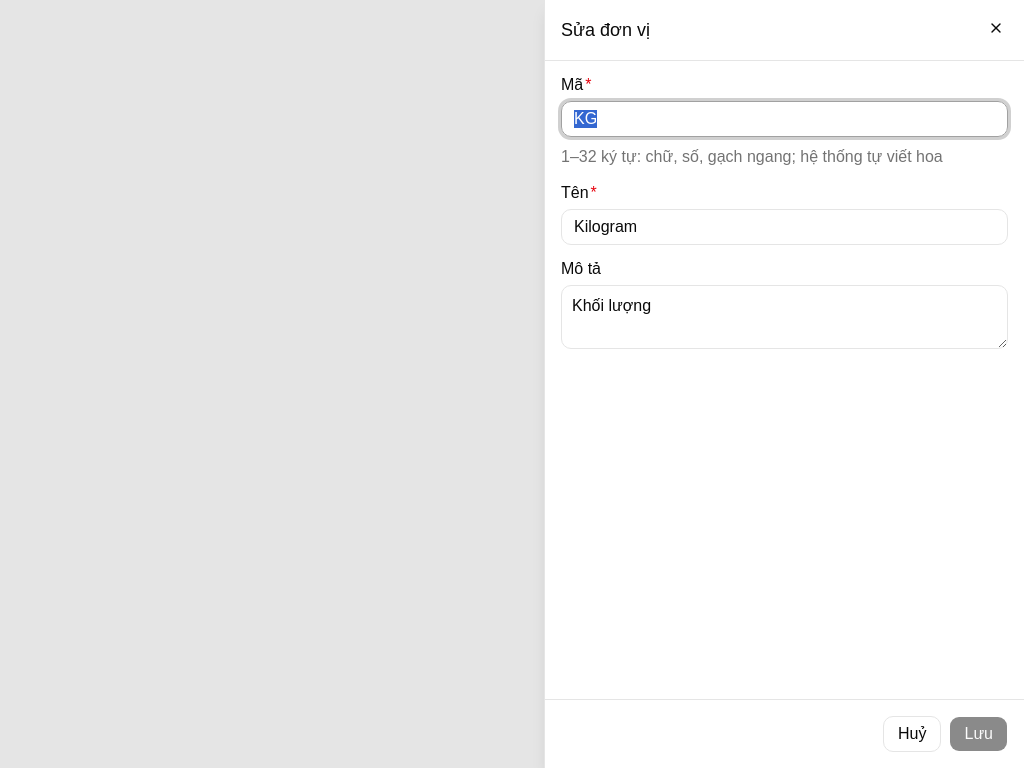
Test case: UnitFormSheet › sửa: PATCH trả mã trùng (100906) → hộp đóng, lỗi tại ô Mã, sheet vẫn mở
The image size is (1024, 768).
Type "X" into the field labelled "Mã *" at [784, 119], box [561,101,1008,137]
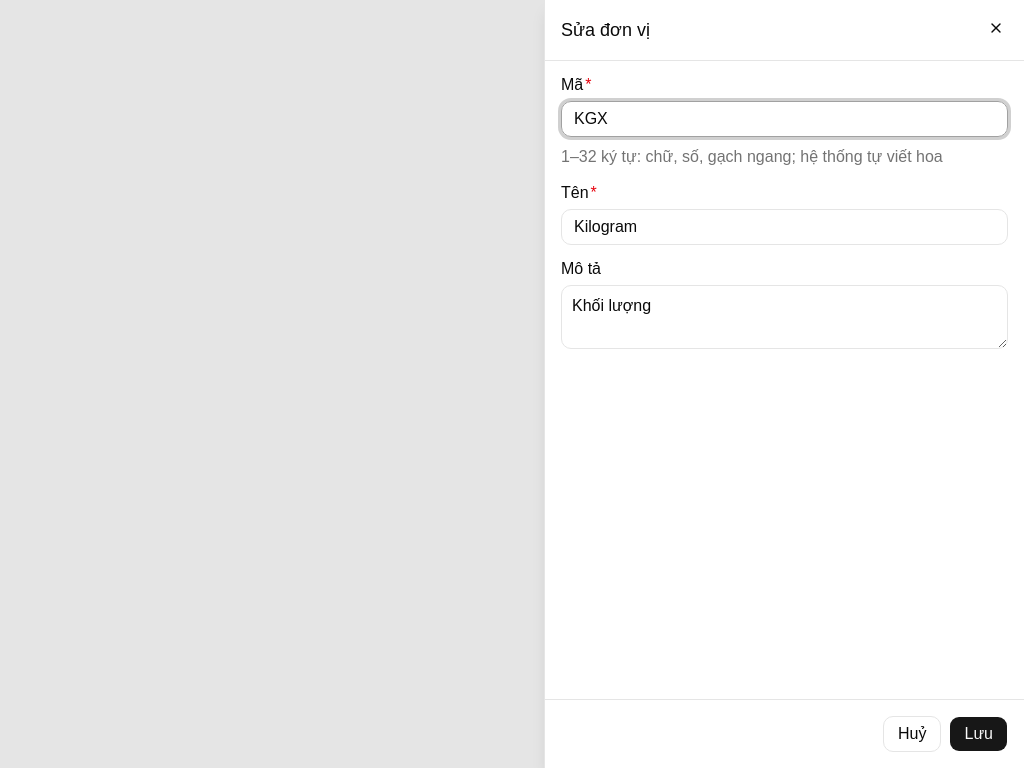
Click the button "Lưu" at [979, 734], box [950,716,1008,752]
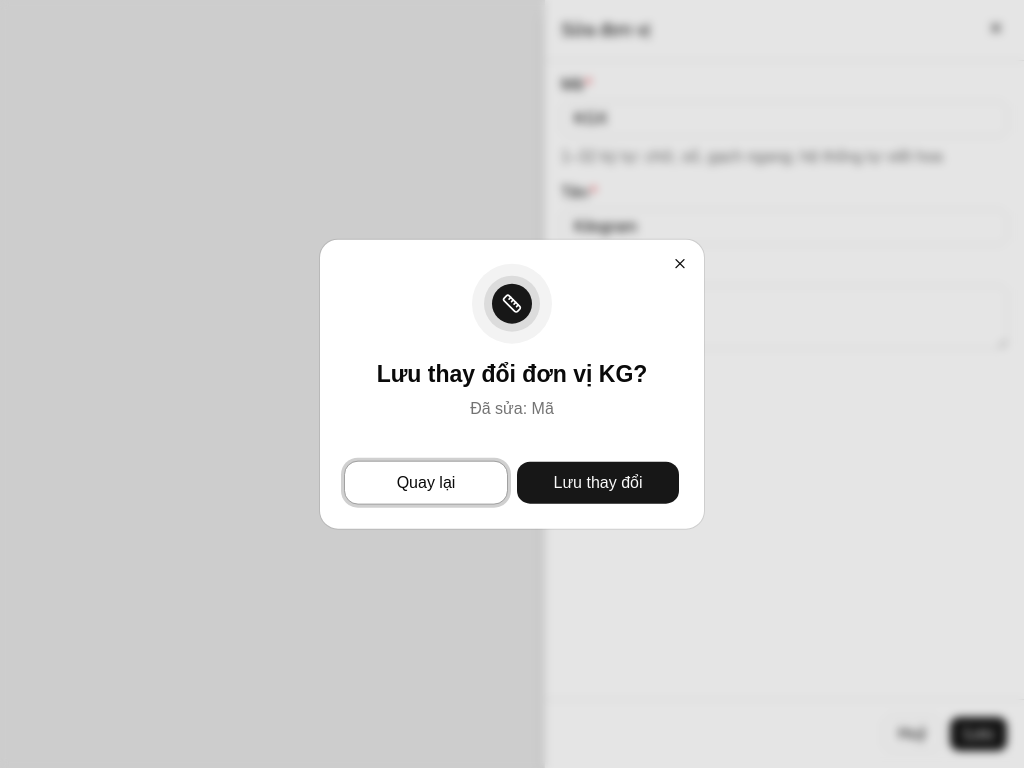
Click the button "Lưu thay đổi" at [598, 482], box [516,460,680,504]
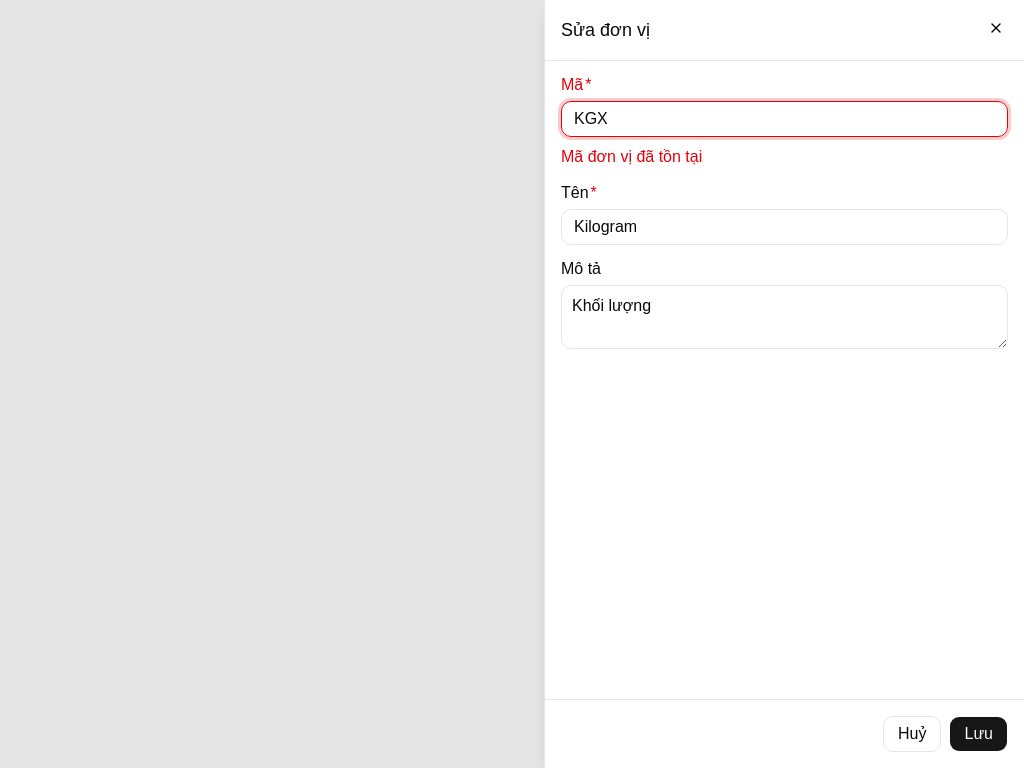
Check: the text "Mã đơn vị đã tồn tại" is shown, box [561,148,702,165]
Check: the dialog "Lưu thay đổi đơn vị KG? Đã sửa: Mã Quay lại Lưu thay đổi" is gone
